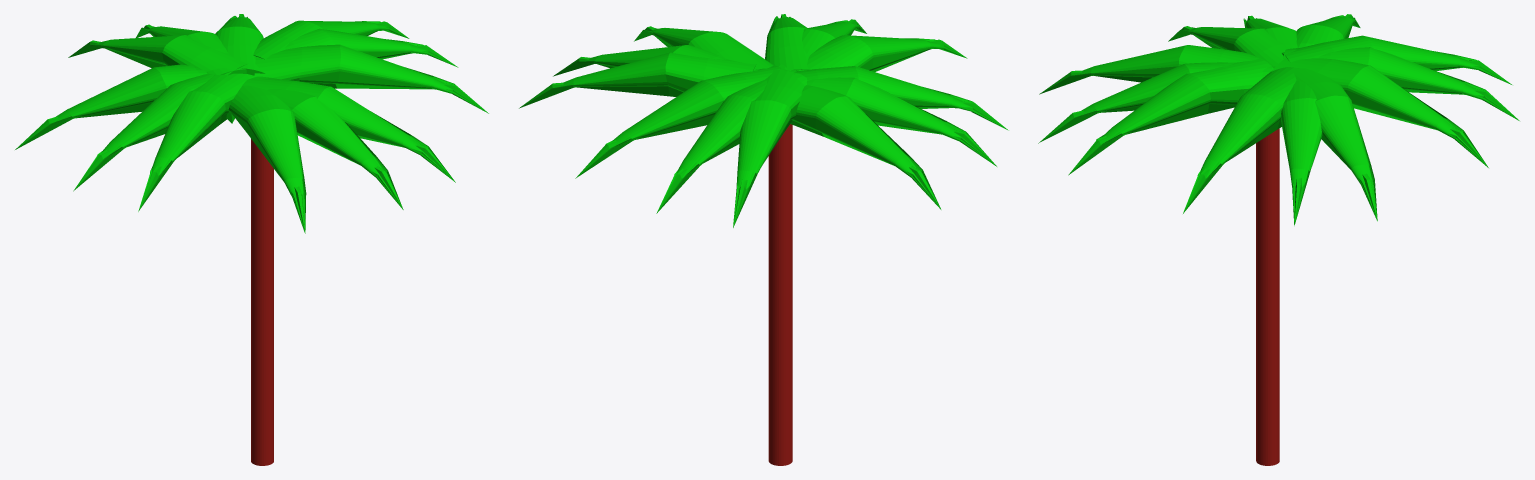
Rendered from tree.obj.
The picture shows the model from 3 angles, left to right: view 1: azimuth 30°, elevation 25°; view 2: azimuth 150°, elevation 25°; view 3: azimuth 270°, elevation 25°; orthographic projection. The views are drawn at different scales.
Parts seen in each view (by area): view 1: Cylinder_Cylinder.001, Cylinder.001_Cylinder; view 2: Cylinder_Cylinder.001, Cylinder.001_Cylinder; view 3: Cylinder_Cylinder.001, Cylinder.001_Cylinder.
Boxes of the visible parts, left/top/right/bottom form: Cylinder_Cylinder.001: left=15, top=14, right=488, bottom=233; Cylinder.001_Cylinder: left=251, top=139, right=273, bottom=465; Cylinder_Cylinder.001: left=519, top=14, right=1008, bottom=227; Cylinder.001_Cylinder: left=768, top=124, right=792, bottom=465; Cylinder_Cylinder.001: left=1038, top=14, right=1519, bottom=225; Cylinder.001_Cylinder: left=1256, top=128, right=1279, bottom=465.
Size of the model in its own units: 3.58 by 3.29 by 3.57.
